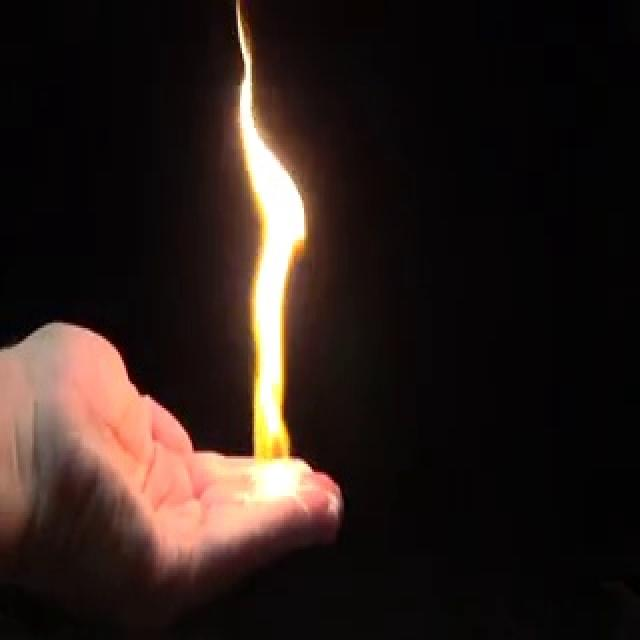fire: (222, 0, 308, 507)
